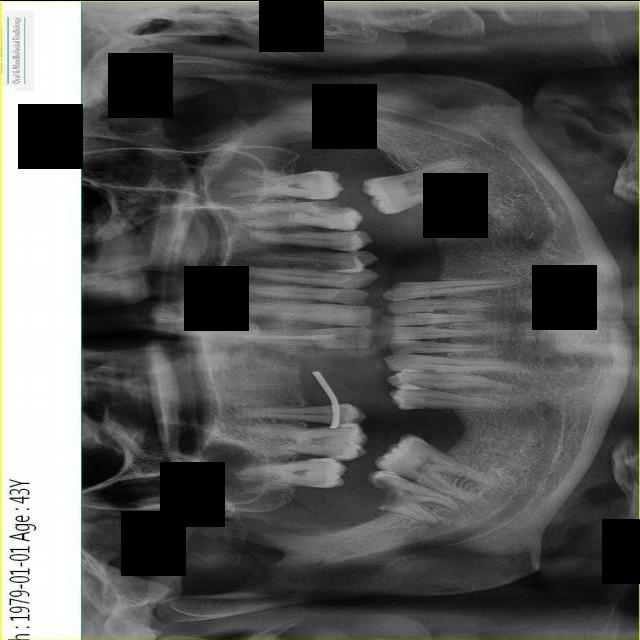74: (240, 334, 332, 341)
Sterngold Implant: (368, 467, 404, 507), (309, 198, 352, 215), (341, 433, 355, 447)
Straumann Implant: (313, 326, 373, 349)
